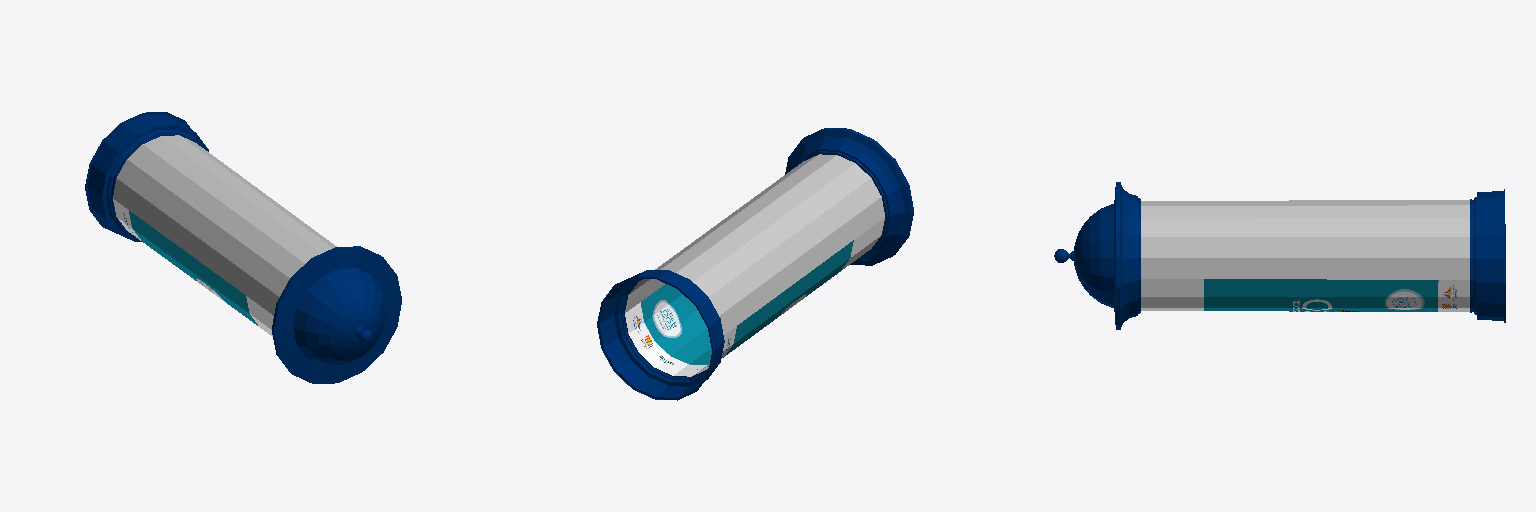
3 views of the same model, side by side, from view 1: azimuth 30°, elevation 25°; view 2: azimuth 150°, elevation 25°; view 3: azimuth 270°, elevation 25° (orthographic).
Parts seen in each view (by area): view 1: BezierCurve.002_BezierCurve.001; view 2: BezierCurve.002_BezierCurve.001; view 3: BezierCurve.002_BezierCurve.001.
Boxes of the visible parts, box(x1,y1,x2,y2) form: BezierCurve.002_BezierCurve.001: box(85, 112, 401, 383); BezierCurve.002_BezierCurve.001: box(597, 128, 913, 400); BezierCurve.002_BezierCurve.001: box(1054, 182, 1505, 329).
Bounding box in the file's own units: 1.64 × 1.64 × 4.99.
Materials: 3 (2 with a texture image).